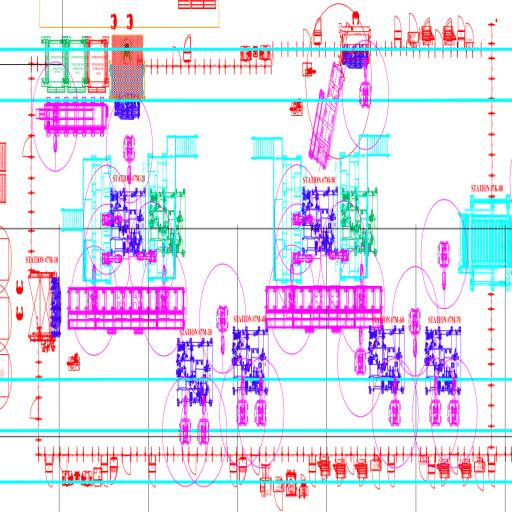robot: (284, 260, 299, 322), (357, 57, 374, 110), (121, 132, 138, 184), (435, 238, 451, 292), (355, 262, 369, 322), (387, 372, 402, 428), (408, 303, 421, 359), (430, 371, 442, 429), (354, 324, 367, 377), (217, 302, 229, 358), (255, 372, 267, 428), (448, 373, 460, 426), (180, 394, 192, 446), (198, 393, 210, 445), (90, 259, 99, 324), (159, 260, 169, 316), (238, 376, 248, 430), (292, 208, 314, 230), (102, 249, 124, 268), (136, 246, 158, 265), (100, 210, 123, 228), (328, 246, 350, 264)
